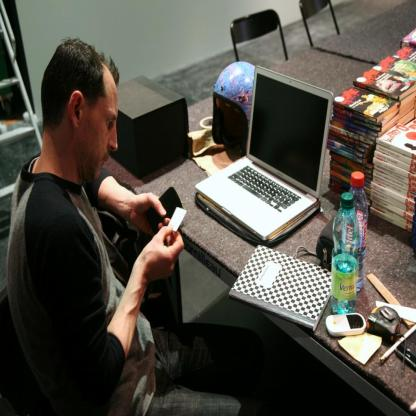board: (194, 65, 334, 239), (330, 192, 360, 314), (349, 171, 369, 292)
